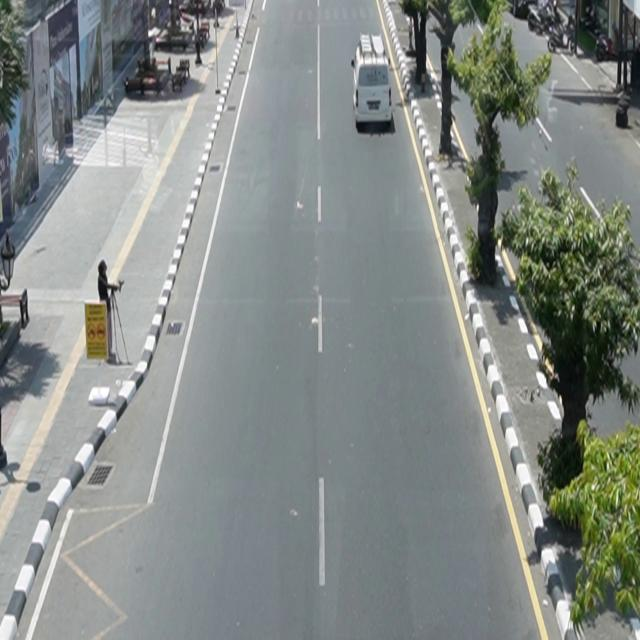bus: (352, 33, 393, 129)
